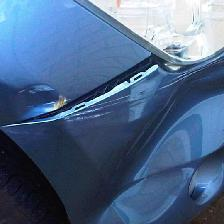bumper_dent: (24, 28, 205, 149)
